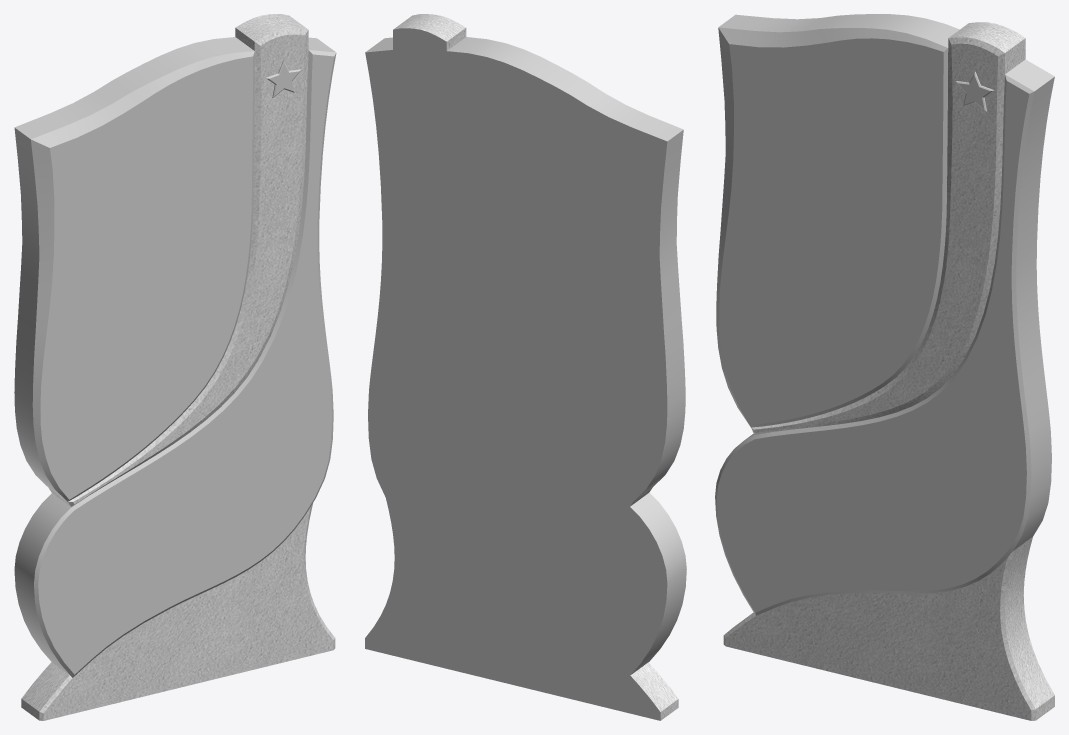
Rendered from cn1bc1a2087a_tkf.glb.
The picture shows the model from 3 angles, left to right: view 1: azimuth 30°, elevation 25°; view 2: azimuth 150°, elevation 25°; view 3: azimuth 330°, elevation 25°; orthographic projection. The views are drawn at different scales.
Parts seen in each view (by area): view 1: Pam-d03-118, Pam-d03-118_2_notexture; view 2: Pam-d03-118, Pam-d03-118_2_notexture; view 3: Pam-d03-118, Pam-d03-118_2_notexture.
Part boxes in pixels (left/top/right/bottom): Pam-d03-118: left=14, top=37, right=336, bottom=677; Pam-d03-118_2_notexture: left=21, top=14, right=335, bottom=720; Pam-d03-118: left=365, top=28, right=686, bottom=720; Pam-d03-118_2_notexture: left=393, top=14, right=678, bottom=720; Pam-d03-118: left=715, top=14, right=1054, bottom=615; Pam-d03-118_2_notexture: left=723, top=22, right=1054, bottom=720.
Size of the model in its own units: 0.4 by 0.8 by 0.05.
Materials: 1 (1 with a texture image).
